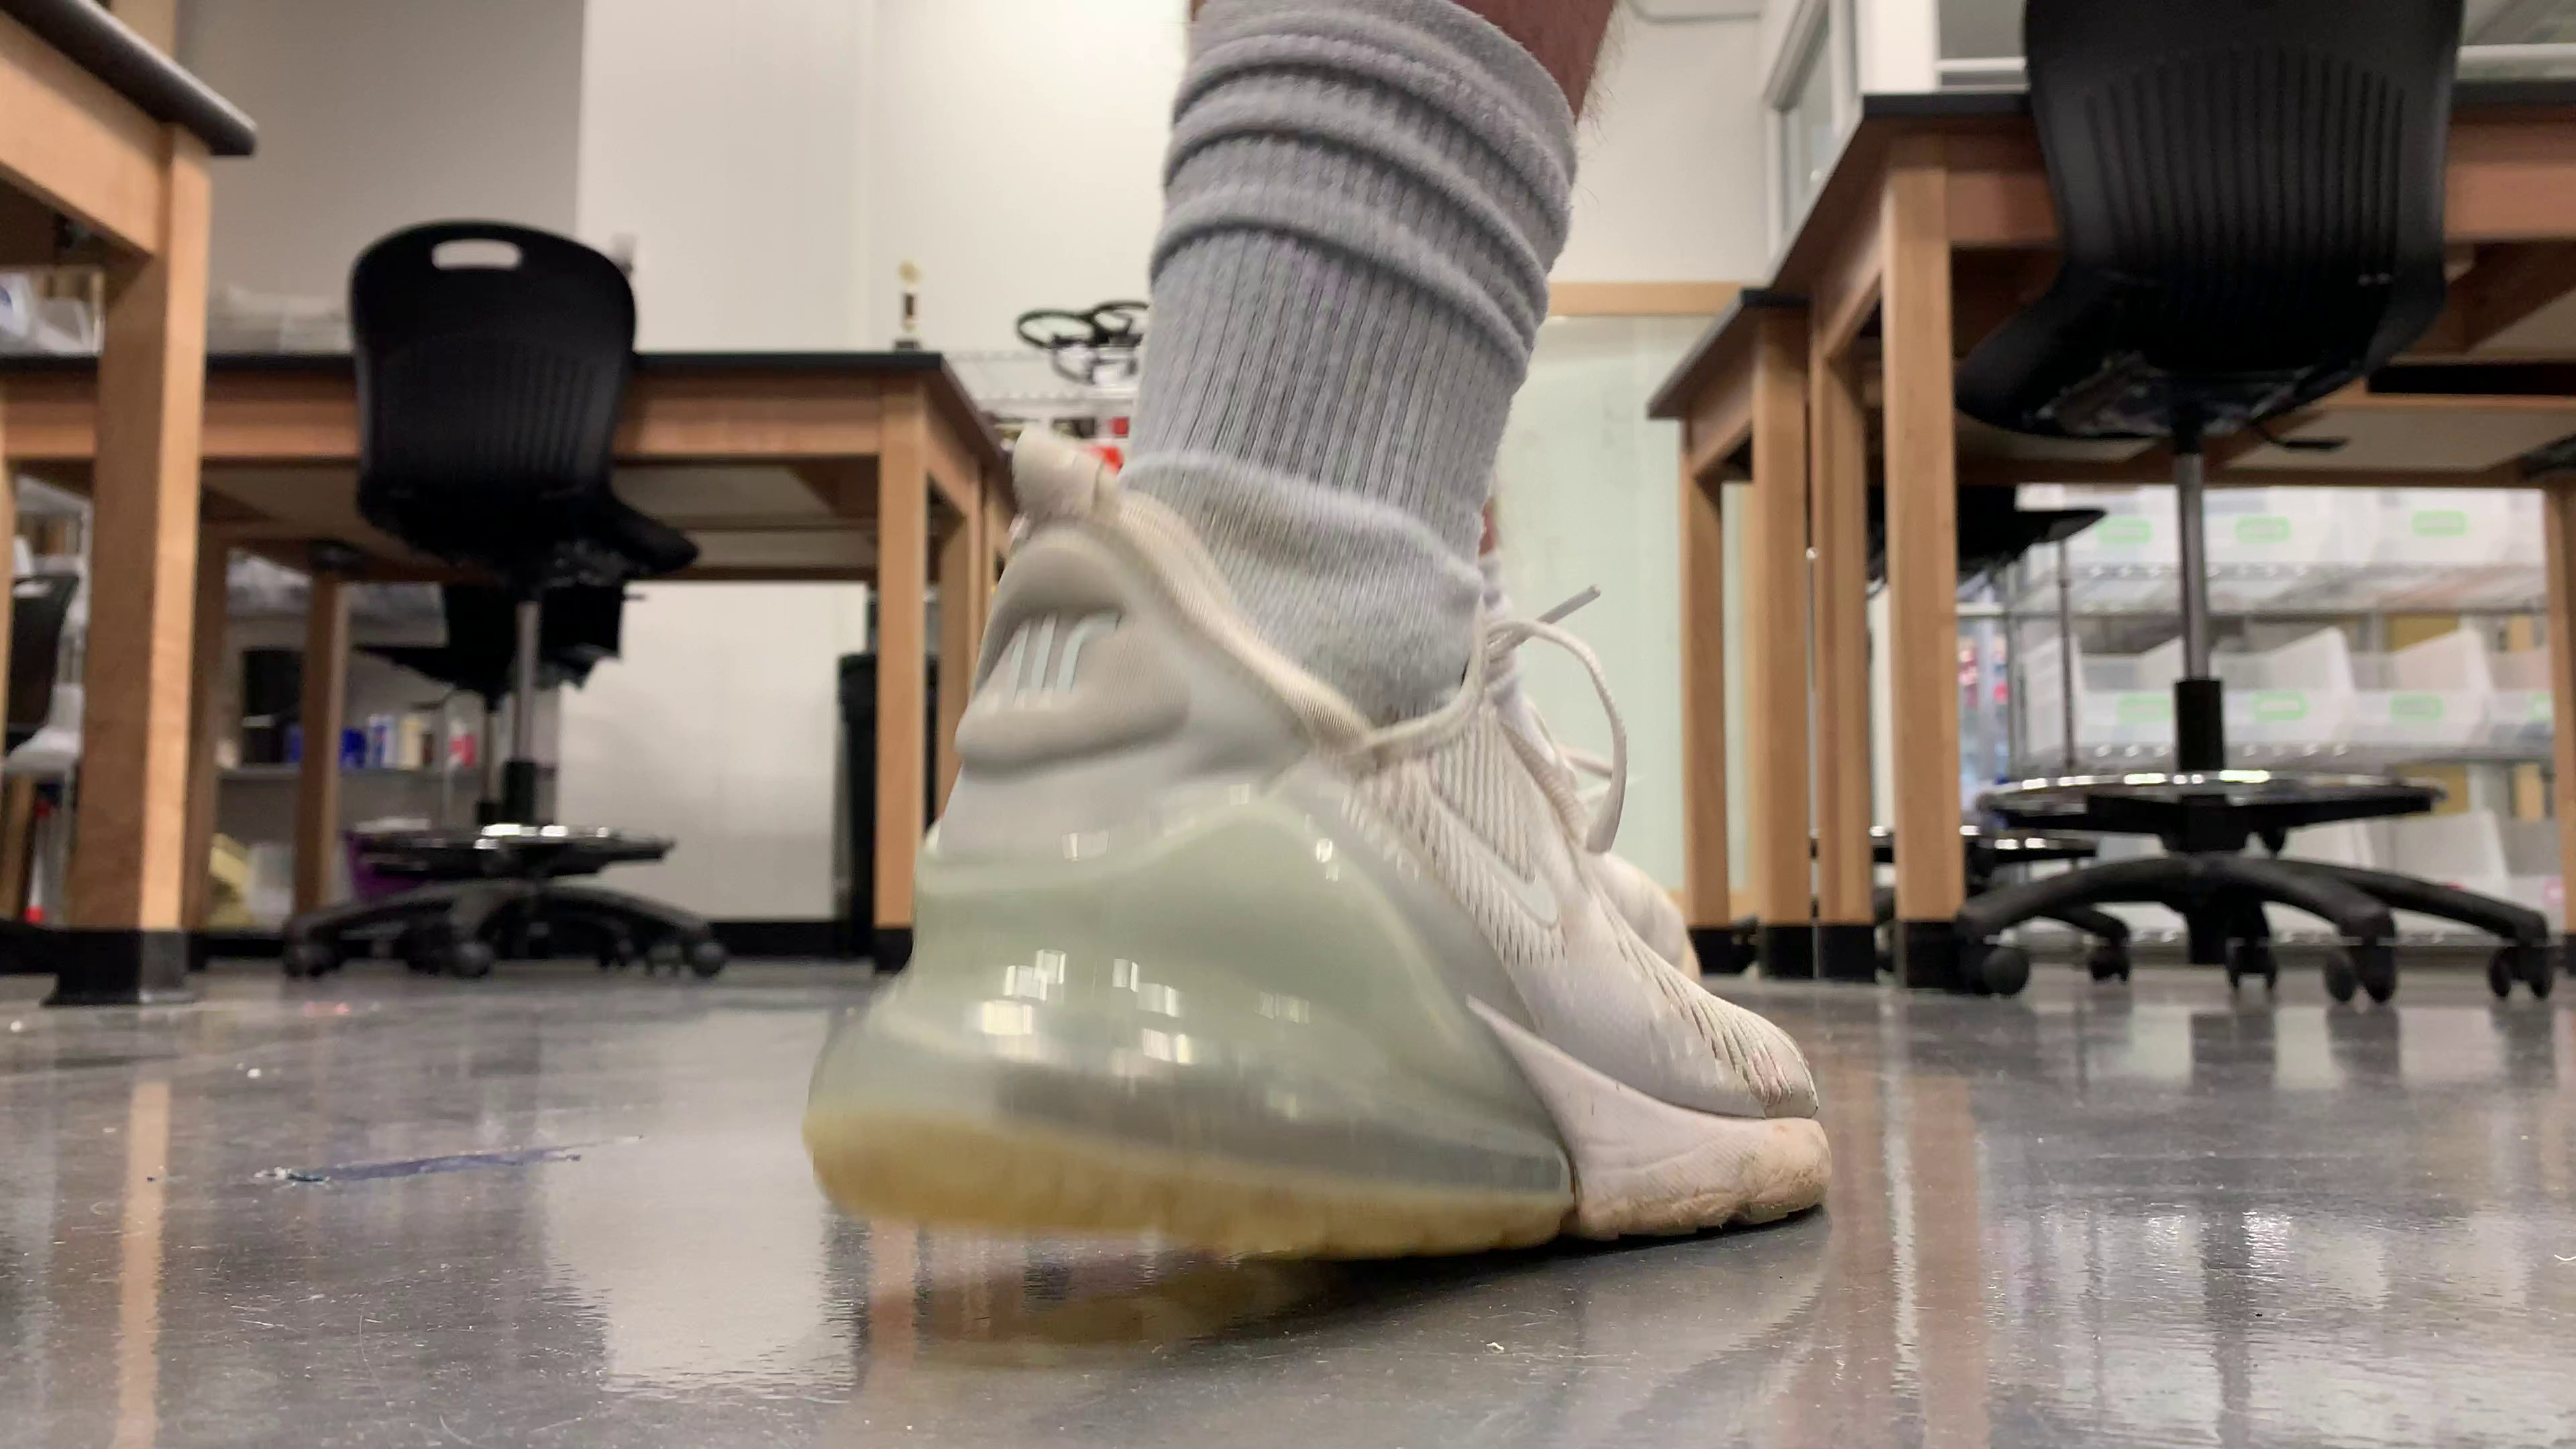shoe: (805, 488, 1829, 1256)
